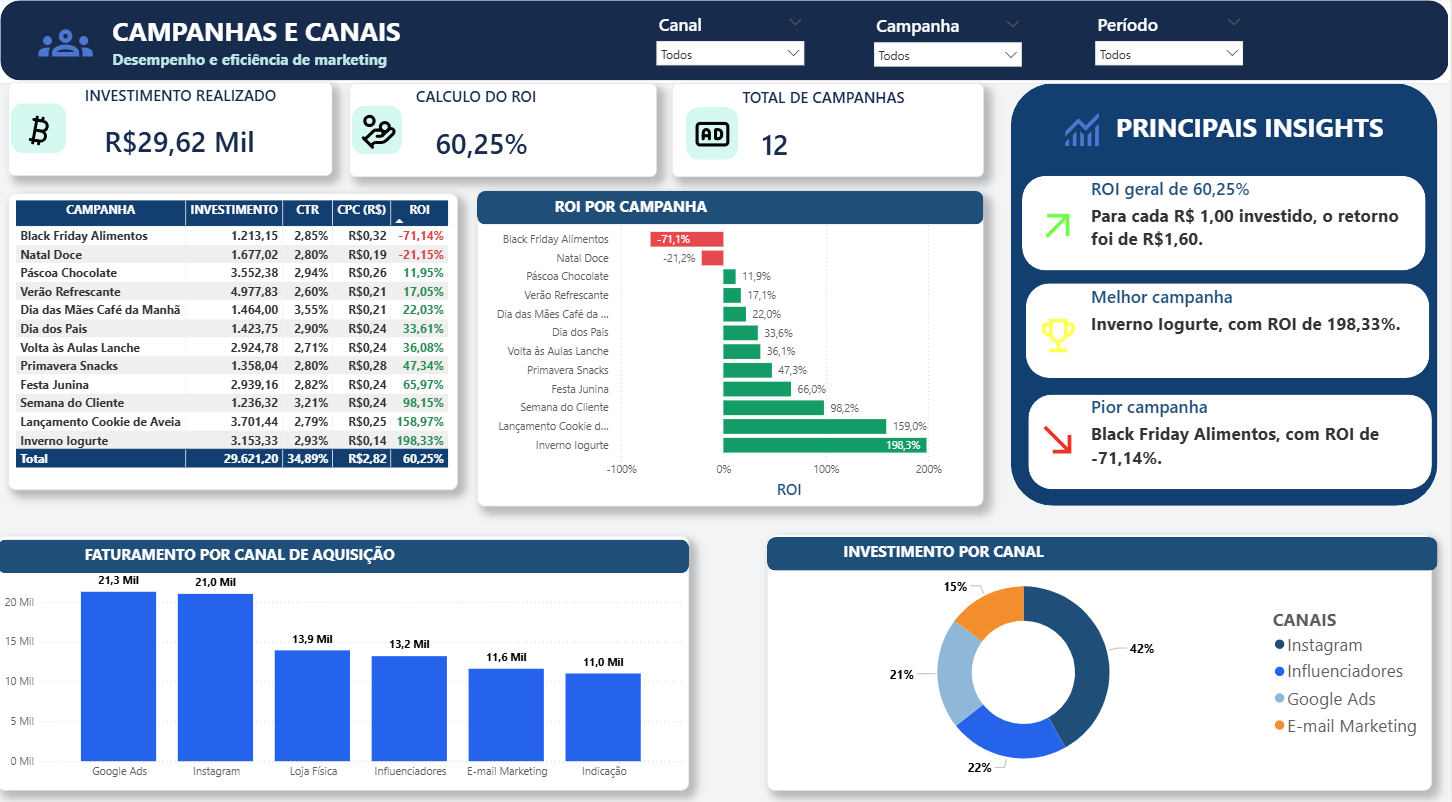

This screenshot's page, from the dashboard's own definition file:
{"tool":"powerbi","page":{"name":"CAMPANHAS E CANAIS","canvas":[1800,1000],"ordinal":1},"visuals":[{"type":"shape","box":[1253.4,107.2,527.8,522.8],"z":0},{"type":"clusteredBarChart","title":"ROI POR CAMPANHA","fields":{"Category":["vw_ResumoCampanhas.campanha"],"Y":["Sum(vw_ResumoCampanhas.ROI)"]},"box":[593.2,239.6,626.7,390.4],"z":1000},{"type":"tableEx","fields":{"Values":["vw_ResumoCampanhas.campanha","Sum(vw_ResumoCampanhas.gasto_total)","Sum(vw_ResumoCampanhas.CTR)","Sum(vw_ResumoCampanhas.CPC)","vw_ResumoCampanhas.ROI Geral Corrigido"]},"box":[13.4,243,556.3,367],"z":2000},{"type":"shape","box":[0,0,1799.6,107.2],"z":3000},{"type":"textbox","box":[137.5,15.7,553.8,59.1],"z":4000},{"type":"textbox","box":[137.4,58.6,360.3,48.6],"z":5000},{"type":"shape","box":[13.4,104.9,400.5,115.6],"z":6000},{"type":"cardVisual","title":"INVESTIMENTO REALIZADO","fields":{"Data":["vw_VendasDetalhadas.Investimento Realizado"]},"box":[103.9,108.2,254.7,112.3],"z":7000},{"type":"shape","box":[16.8,131.7,68.7,62],"z":8000},{"type":"image","box":[23.5,143.4,58.6,43.6],"z":9000},{"type":"shape","box":[435.7,107.2,380.4,115.6],"z":10000},{"type":"cardVisual","title":"CALCULO DO ROI","fields":{"Data":["vw_ResumoCampanhas.ROI Geral Corrigido"]},"box":[513.4,109.6,256.4,112.3],"z":11000},{"type":"shape","box":[439.7,134.7,62,60.3],"z":12000},{"type":"image","box":[444.7,143.1,53.6,45.2],"z":13000},{"type":"shape","box":[834.5,107.2,385.4,115.6],"z":14000},{"type":"cardVisual","title":"TOTAL DE CAMPANHAS","fields":{"Data":["vw_ResumoCampanhas.Total Campanhas"]},"box":[916.9,110.9,254.7,112.3],"z":15000},{"type":"shape","box":[851.5,136.1,65.3,65.3],"z":16000},{"type":"image","box":[856.6,146.1,57,45.2],"z":17000},{"type":"clusteredColumnChart","title":"FATURAMENTO POR CANAL DE AQUISIÇÃO","fields":{"Y":["vw_ResumoCampanhas.Faturamento Entregues"],"Category":["vw_VendasDetalhadas.canal_aquisicao"]},"box":[0,666.9,856.2,315],"z":18000},{"type":"donutChart","fields":{"Category":["vw_ResumoCampanhas.canal"],"Y":["Sum(vw_ResumoCampanhas.gasto_total)"]},"box":[951.7,665.2,822.7,316.7],"z":19000},{"type":"shape","box":[1268.4,221.2,499.3,117.3],"z":20000},{"type":"textbox","title":"ROI geral de 60,25%","box":[1348.9,221.2,418.9,119],"z":21000},{"type":"shape","box":[1273.1,354.5,499.3,117.3],"z":22000},{"type":"textbox","title":"Melhor campanha","box":[1348.9,355.2,423.9,119],"z":23000},{"type":"shape","box":[1275.8,491.2,499.3,117.3],"z":24000},{"type":"textbox","title":"Pior campanha","box":[1348.9,491,425.6,119],"z":25000},{"type":"textbox","box":[1379,134,370.3,100.5],"z":26000},{"type":"image","box":[1276,256,73.7,55.3],"z":27000},{"type":"image","box":[1275.1,390.4,73.7,55.3],"z":28000},{"type":"image","box":[1275.1,521.1,73.7,55.3],"z":29000},{"type":"image","box":[1305.3,135.7,73.7,55.3],"z":30000},{"type":"shape","box":[593.2,239.6,626.7,41.9],"z":31000},{"type":"textbox","box":[685.3,241.3,241.3,38.5],"z":32000},{"type":"shape","box":[0,670.2,856.2,41.9],"z":33000},{"type":"textbox","box":[103.9,670.6,412.2,45.2],"z":34000},{"type":"shape","box":[951.7,667.2,829.4,41.9],"z":35000},{"type":"textbox","box":[1042.2,667.2,299.9,38.5],"z":36000},{"type":"slicer","fields":{"Values":["vw_VendasDetalhadas.canal_aquisicao"]},"box":[806,13.4,202.7,82.1],"z":37000},{"type":"slicer","fields":{"Values":["vw_VendasDetalhadas.campanha"]},"box":[1074.1,15.1,202.7,82.1],"z":38000},{"type":"slicer","fields":{"Values":["vw_VendasDetalhadas.Ano/Mês"]},"box":[1348.9,13.4,202.7,82.1],"z":39000},{"type":"image","box":[45.2,23.5,80.4,67],"z":40000}]}

Visuals, with their boxes in screenshot pixels (x1, y1, x2, y2), scaled from the page's 1800x1000 canvas onto the 1452x802 screenshot:
shape: <box>1011,86,1437,505</box>
"ROI POR CAMPANHA" clusteredBarChart: <box>479,192,984,505</box>
tableEx - vw_ResumoCampanhas.campanha x Sum(vw_ResumoCampanhas.gasto_total): <box>11,195,460,489</box>
shape: <box>0,0,1451,86</box>
textbox: <box>111,13,558,60</box>
textbox: <box>111,47,401,86</box>
shape: <box>11,84,334,177</box>
"INVESTIMENTO REALIZADO" cardVisual: <box>84,87,289,177</box>
shape: <box>14,106,69,155</box>
image: <box>19,115,66,150</box>
shape: <box>351,86,658,179</box>
"CALCULO DO ROI" cardVisual: <box>414,88,621,178</box>
shape: <box>355,108,405,156</box>
image: <box>359,115,402,151</box>
shape: <box>673,86,984,179</box>
"TOTAL DE CAMPANHAS" cardVisual: <box>740,89,945,179</box>
shape: <box>687,109,740,162</box>
image: <box>691,117,737,153</box>
"FATURAMENTO POR CANAL DE AQUISIÇÃO" clusteredColumnChart: <box>0,535,691,787</box>
donutChart - vw_ResumoCampanhas.canal x Sum(vw_ResumoCampanhas.gasto_total): <box>768,533,1431,787</box>
shape: <box>1023,177,1426,271</box>
"ROI geral de 60,25%" textbox: <box>1088,177,1426,273</box>
shape: <box>1027,284,1430,378</box>
"Melhor campanha" textbox: <box>1088,285,1430,380</box>
shape: <box>1029,394,1432,488</box>
"Pior campanha" textbox: <box>1088,394,1431,489</box>
textbox: <box>1112,107,1411,188</box>
image: <box>1029,205,1089,250</box>
image: <box>1029,313,1088,357</box>
image: <box>1029,418,1088,462</box>
image: <box>1053,109,1112,153</box>
shape: <box>479,192,984,226</box>
textbox: <box>553,194,747,224</box>
shape: <box>0,538,691,571</box>
textbox: <box>84,538,416,574</box>
shape: <box>768,535,1437,569</box>
textbox: <box>841,535,1083,566</box>
slicer - vw_VendasDetalhadas.canal_aquisicao: <box>650,11,814,77</box>
slicer - vw_VendasDetalhadas.campanha: <box>866,12,1030,78</box>
slicer - vw_VendasDetalhadas.Ano/Mês: <box>1088,11,1252,77</box>
image: <box>36,19,101,73</box>
